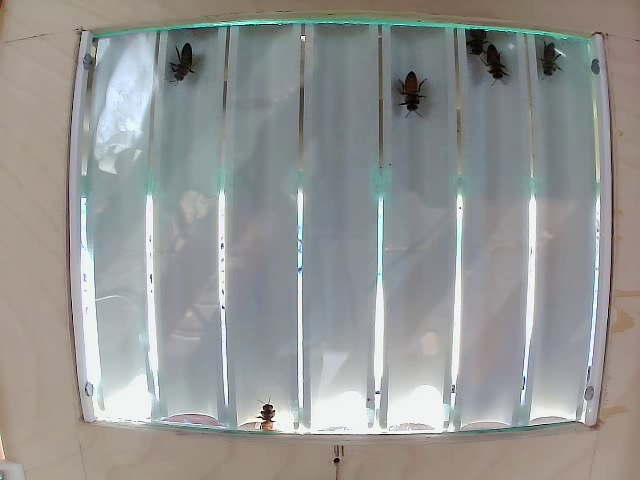bee: (163, 42, 219, 95), (477, 40, 512, 97), (395, 67, 429, 114), (535, 43, 563, 91)
